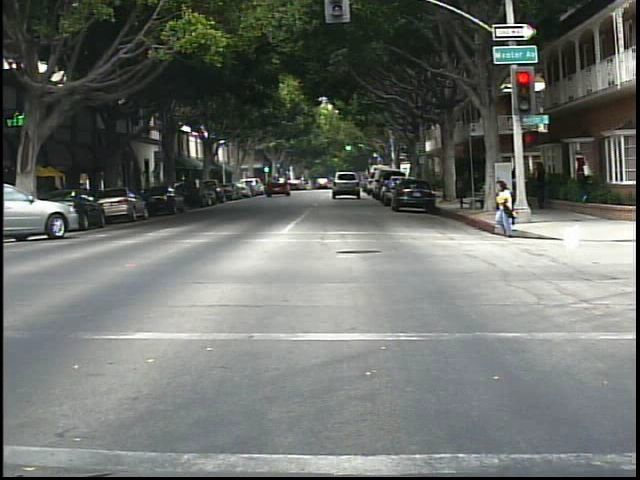person: (488, 173, 522, 241), (570, 146, 598, 205), (534, 155, 556, 212)
